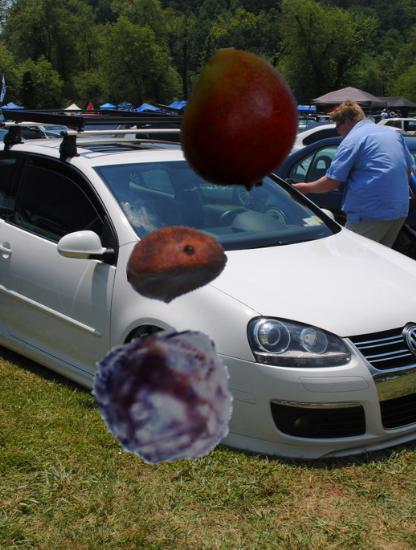Chestnut: (126, 213, 228, 315)
Dates: (94, 328, 236, 470)
Mango: (166, 47, 311, 192)
